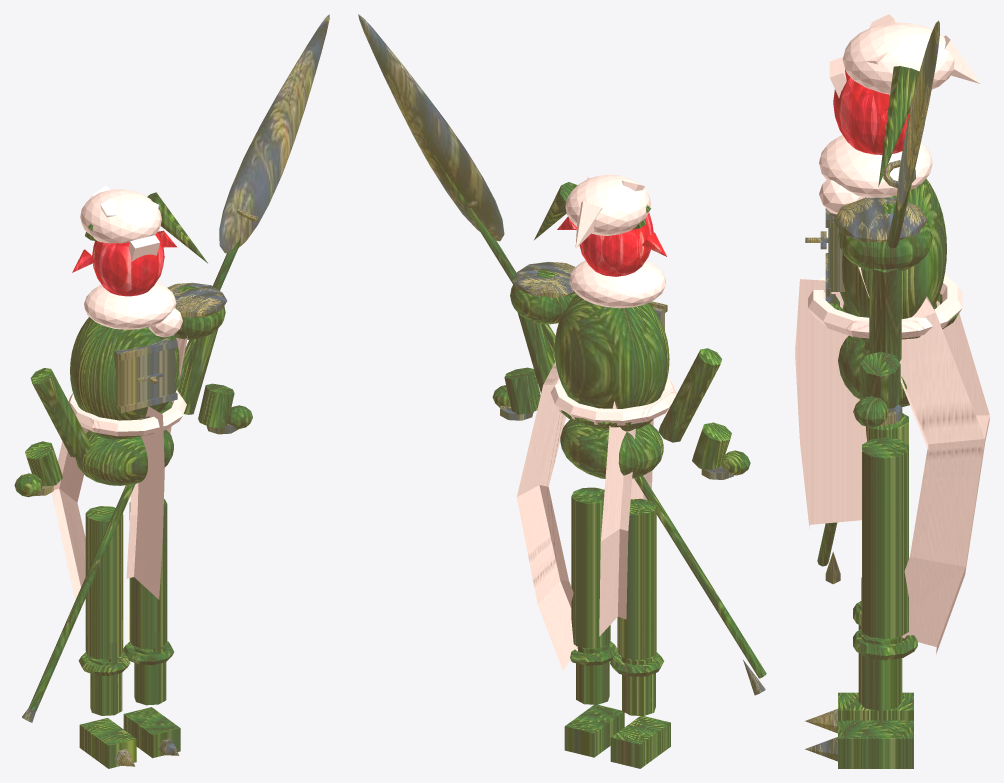
Rendered from demon_lieutenant.glb.
3 renders of one model, left to right at view 1: azimuth 30°, elevation 25°; view 2: azimuth 150°, elevation 25°; view 3: azimuth 270°, elevation 25°, orthographic. The views are drawn at different scales.
Parts seen in each view (by area): view 1: body, glow, metal, fabric; view 2: body, glow, metal, fabric; view 3: glow, body, metal, fabric.
Boxes of the visible parts, left/top/right/bottom form: body: left=14, top=192, right=252, bottom=768; glow: left=51, top=186, right=187, bottom=641; metal: left=22, top=14, right=329, bottom=766; fabric: left=72, top=230, right=176, bottom=296; body: left=421, top=135, right=766, bottom=768; glow: left=516, top=174, right=676, bottom=670; metal: left=358, top=14, right=765, bottom=695; fabric: left=557, top=213, right=666, bottom=276; glow: left=795, top=14, right=989, bottom=654; body: left=817, top=66, right=958, bottom=768; metal: left=805, top=20, right=939, bottom=761; fabric: left=833, top=69, right=910, bottom=154.
Size of the model in its own units: 1.11 by 2.02 by 0.41.
2 materials, 2 textured.
